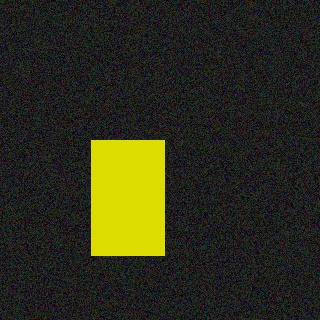yellow_barrel: (92, 141, 165, 255)
